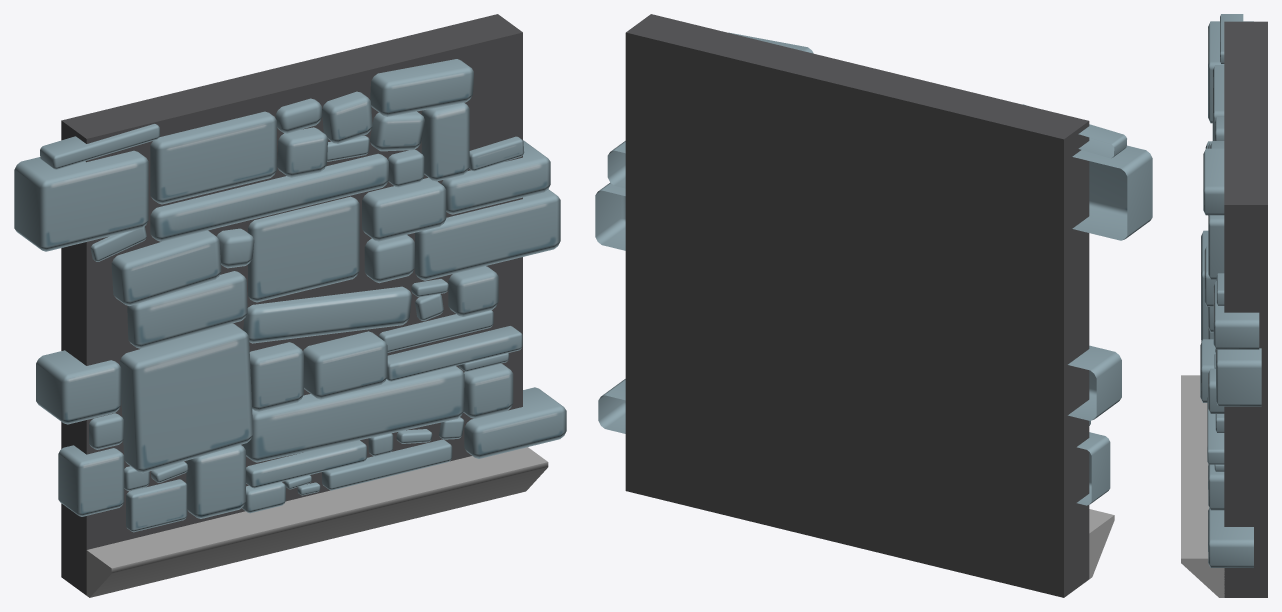
Rendered from Middle Wall Textured.fbx.
3 renders of one model, left to right at view 1: azimuth 30°, elevation 25°; view 2: azimuth 150°, elevation 25°; view 3: azimuth 270°, elevation 25°, orthographic. The views are drawn at different scales.
Visible parts, largest first — view 1: Middle_Wall; view 2: Middle_Wall; view 3: Middle_Wall.
Part boxes in pixels (<box>): Middle_Wall: <box>14,14,566,597</box>; Middle_Wall: <box>595,14,1152,597</box>; Middle_Wall: <box>1181,14,1267,597</box>.
Bounding box in the file's own units: 12.07 × 10 × 2.
